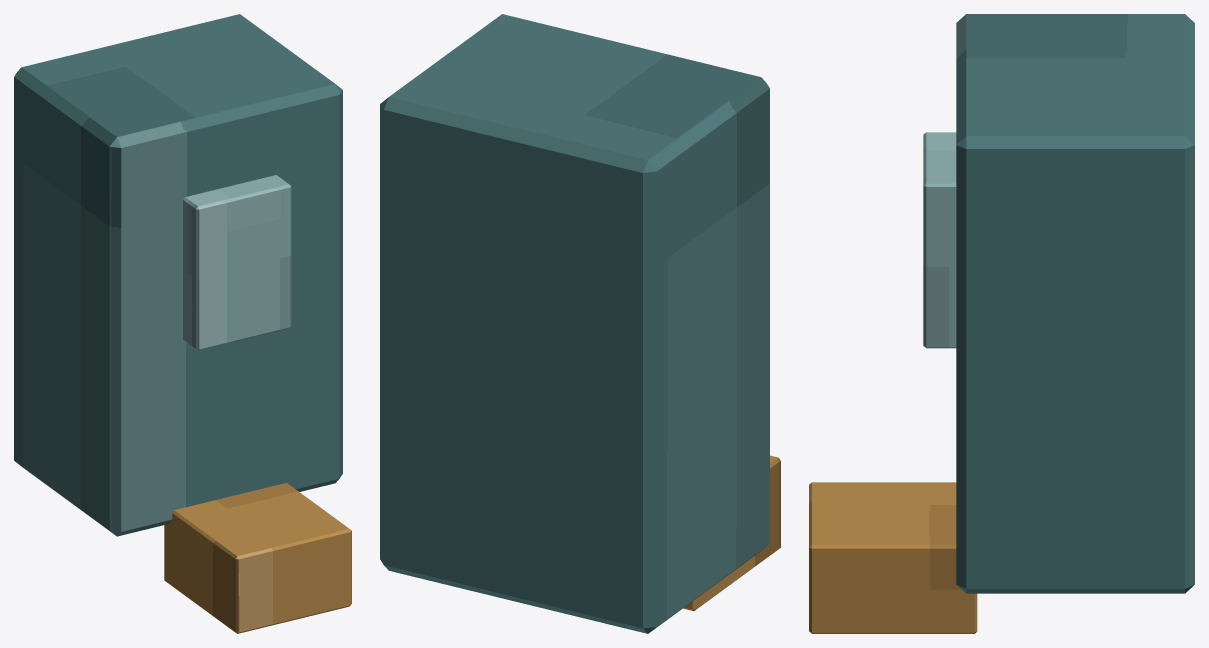
Rendered from public_soap_dispenser.glb.
3 renders of one model, left to right at view 1: azimuth 30°, elevation 25°; view 2: azimuth 150°, elevation 25°; view 3: azimuth 270°, elevation 25°, orthographic. The views are drawn at different scales.
Parts seen in each view (by area): view 1: SoapDispenser, SoapNozzle, SoapWindow; view 2: SoapDispenser, SoapNozzle; view 3: SoapDispenser, SoapNozzle, SoapWindow.
Part boxes in pixels (x1,y1,x2,y2): SoapDispenser: (14, 14, 342, 536); SoapNozzle: (164, 483, 351, 633); SoapWindow: (183, 175, 291, 350); SoapDispenser: (380, 14, 769, 633); SoapNozzle: (683, 455, 780, 611); SoapDispenser: (956, 14, 1194, 593); SoapNozzle: (809, 482, 977, 633); SoapWindow: (923, 132, 956, 348).
Bounding box in the file's own units: 0.22 × 0.415 × 0.275.
Materials: 1 (1 with a texture image).
